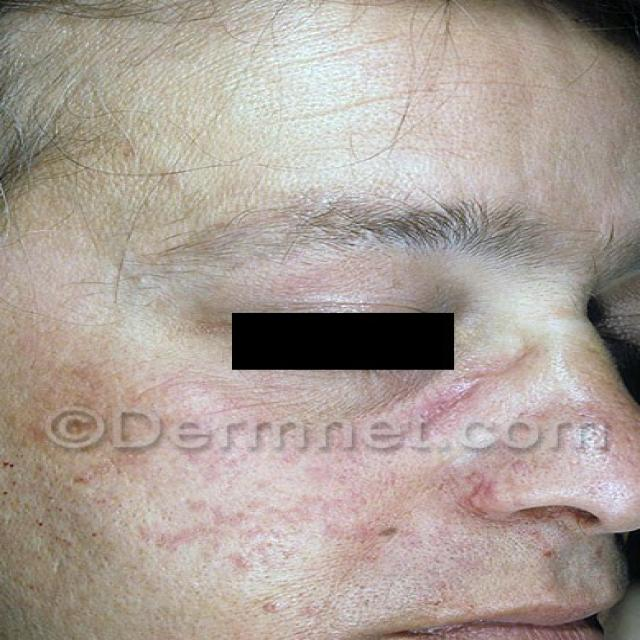Vascular Tumors: (15, 374, 429, 587), (528, 538, 609, 581), (285, 620, 357, 640)
